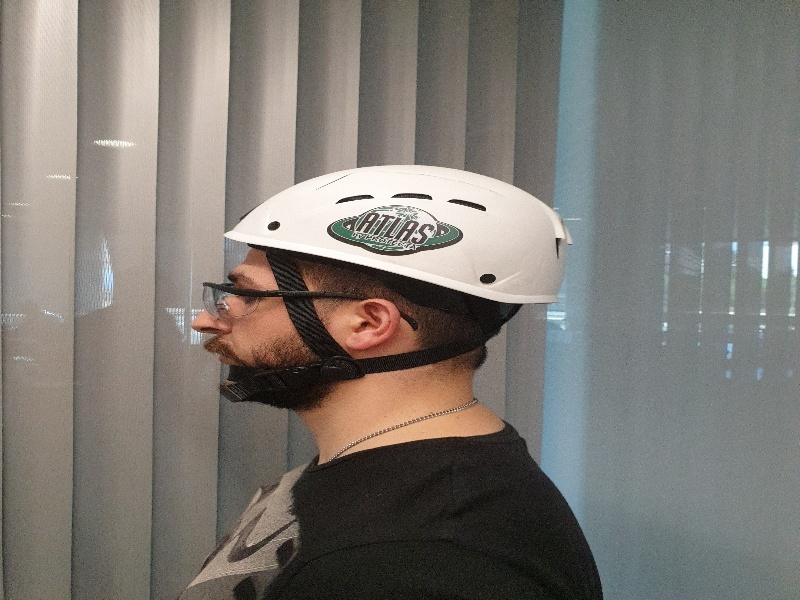Baret: (219, 163, 568, 319)
Gozluk: (195, 280, 424, 329)
